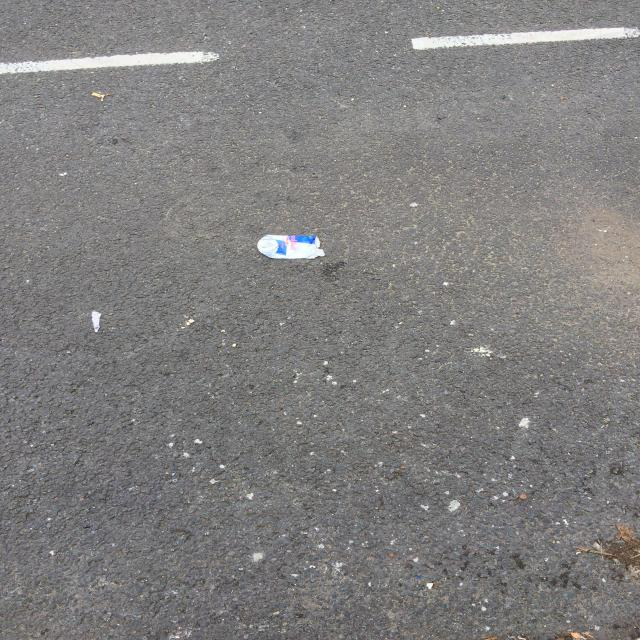Drink can: (257, 235, 325, 259)
Unlabeled litter: (92, 311, 102, 332)
